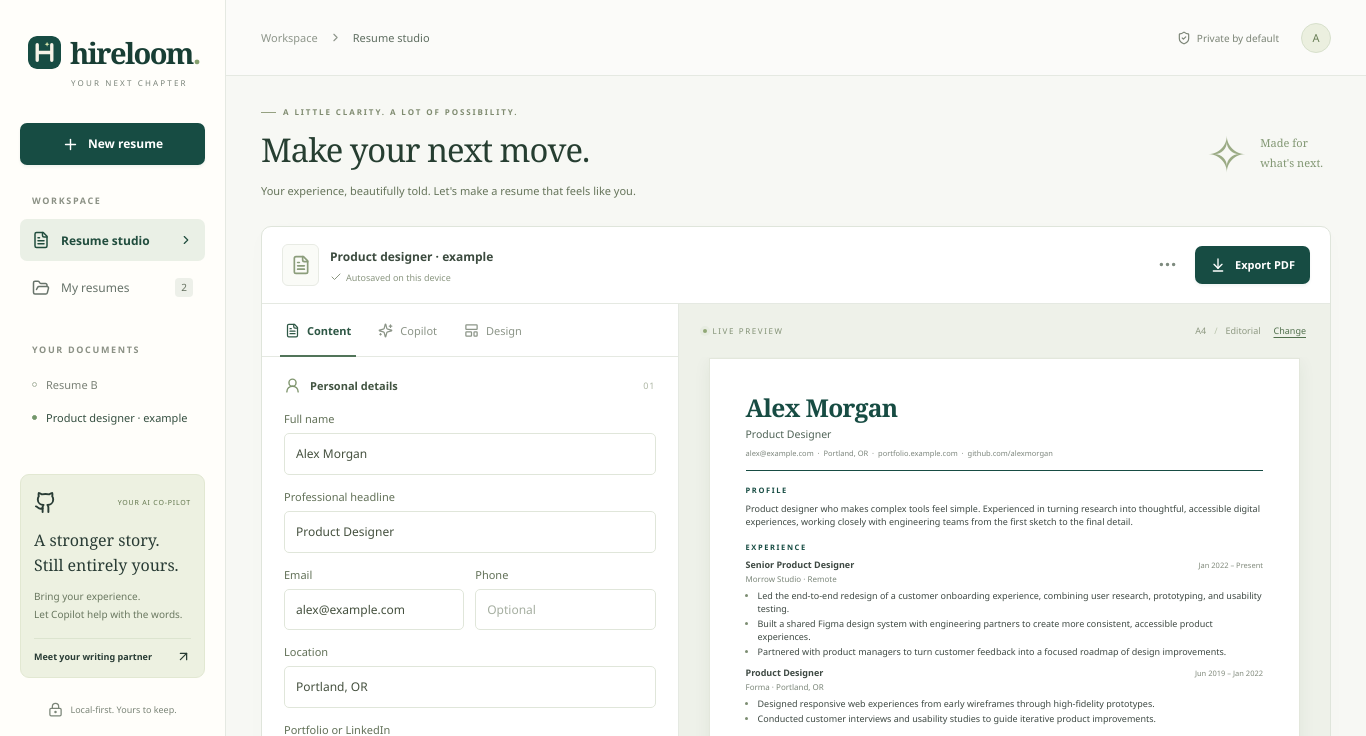
resume studio › keeps a completed APR result visible and stale when switching resumes
This screenshot has width=1366, height=736.
Click the tab "Copilot" at (408, 330), box [373,304,442,356]
(page scrolled)
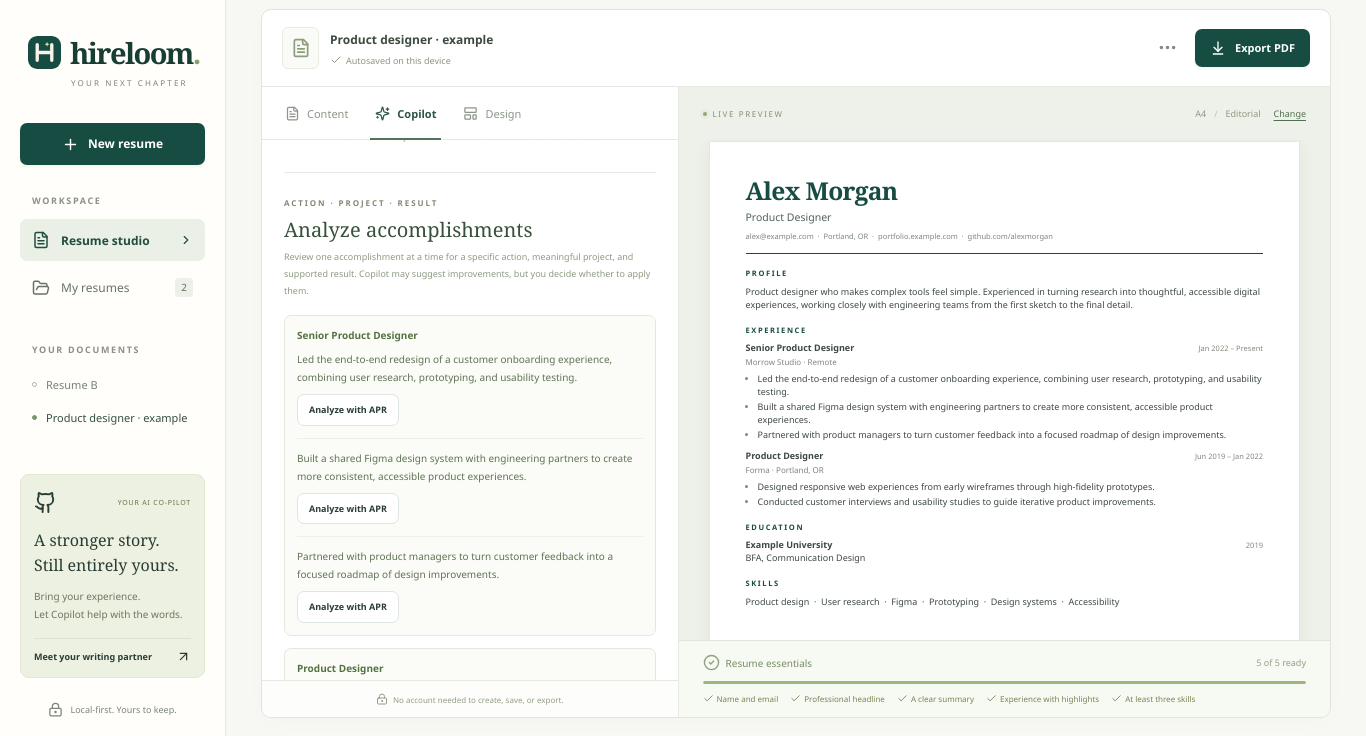
Click the 1st button "Analyze with APR" at (348, 410), box [297,394,399,426]
(page scrolled)
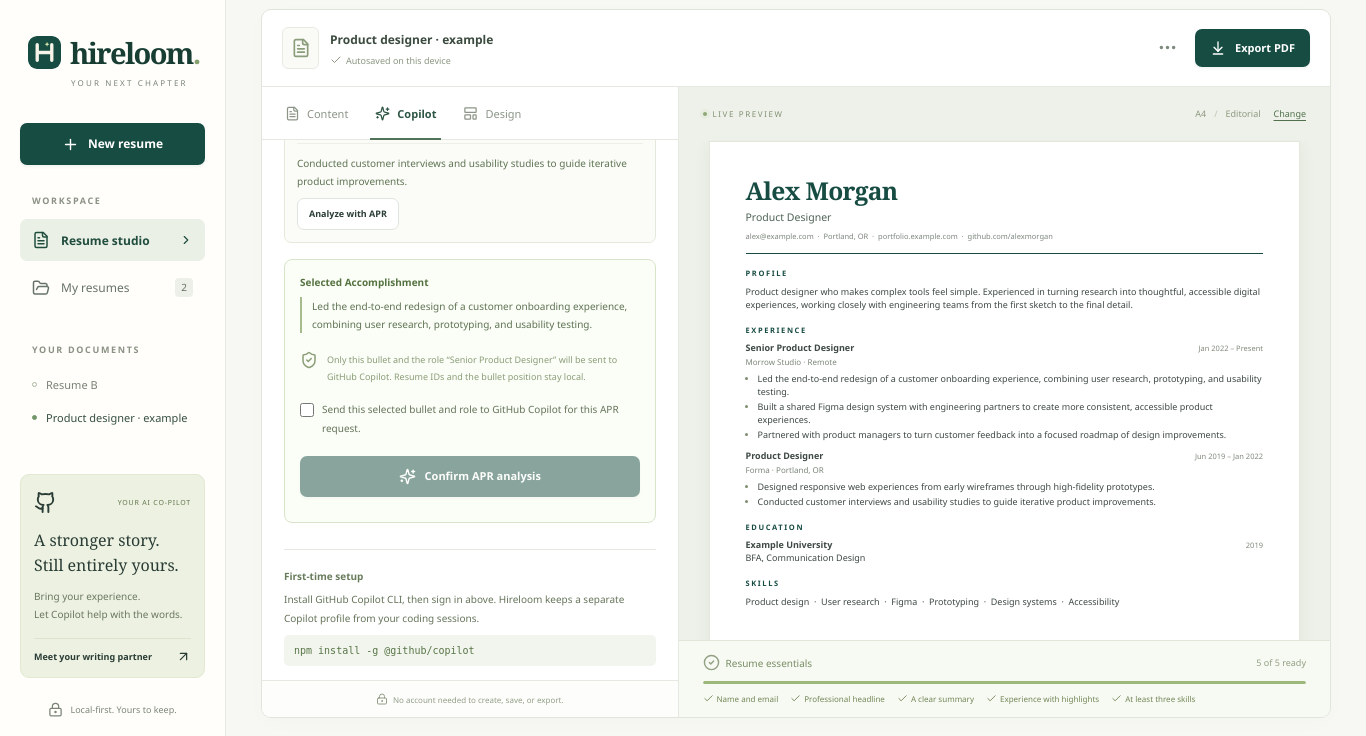
Click the checkbox labelled "Send this selected bullet and role" at (307, 410), box [300,403,314,417]
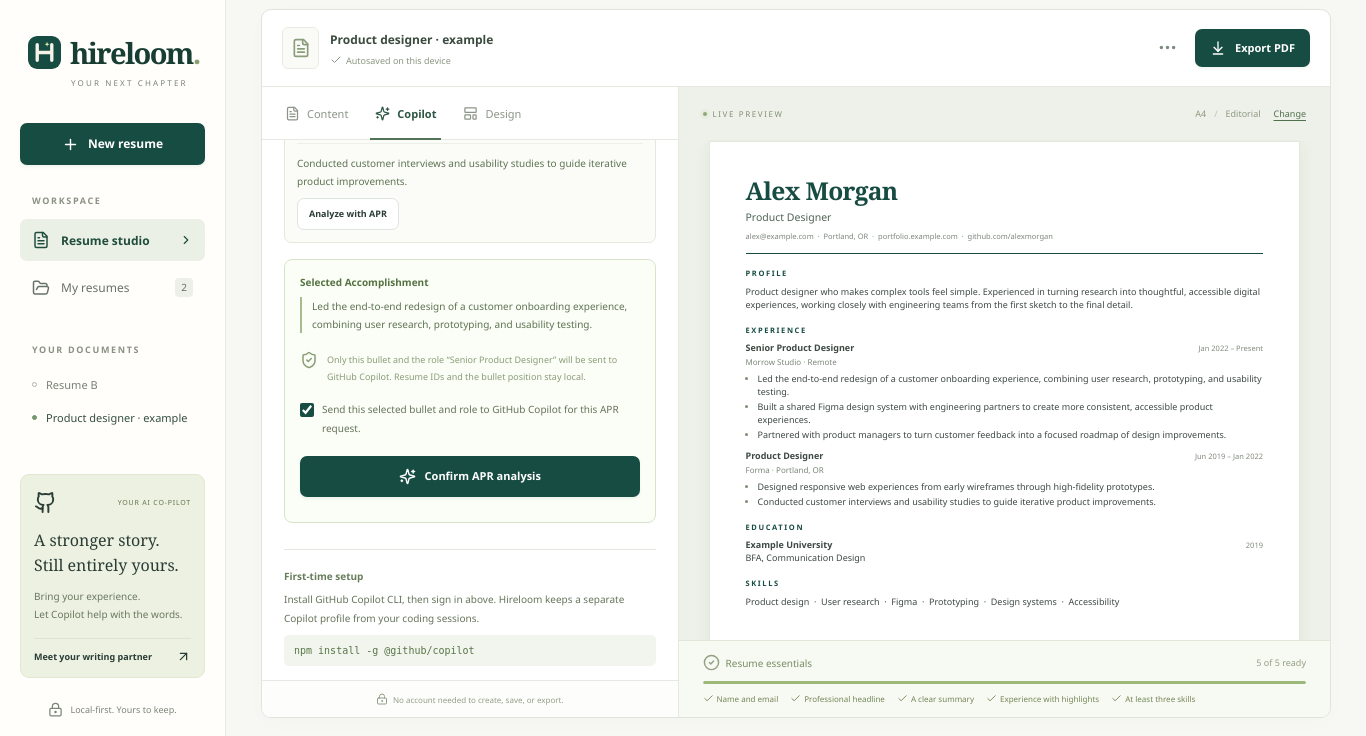
Click the button "Confirm APR analysis" at (470, 476), box [300,456,640,497]
(page scrolled)
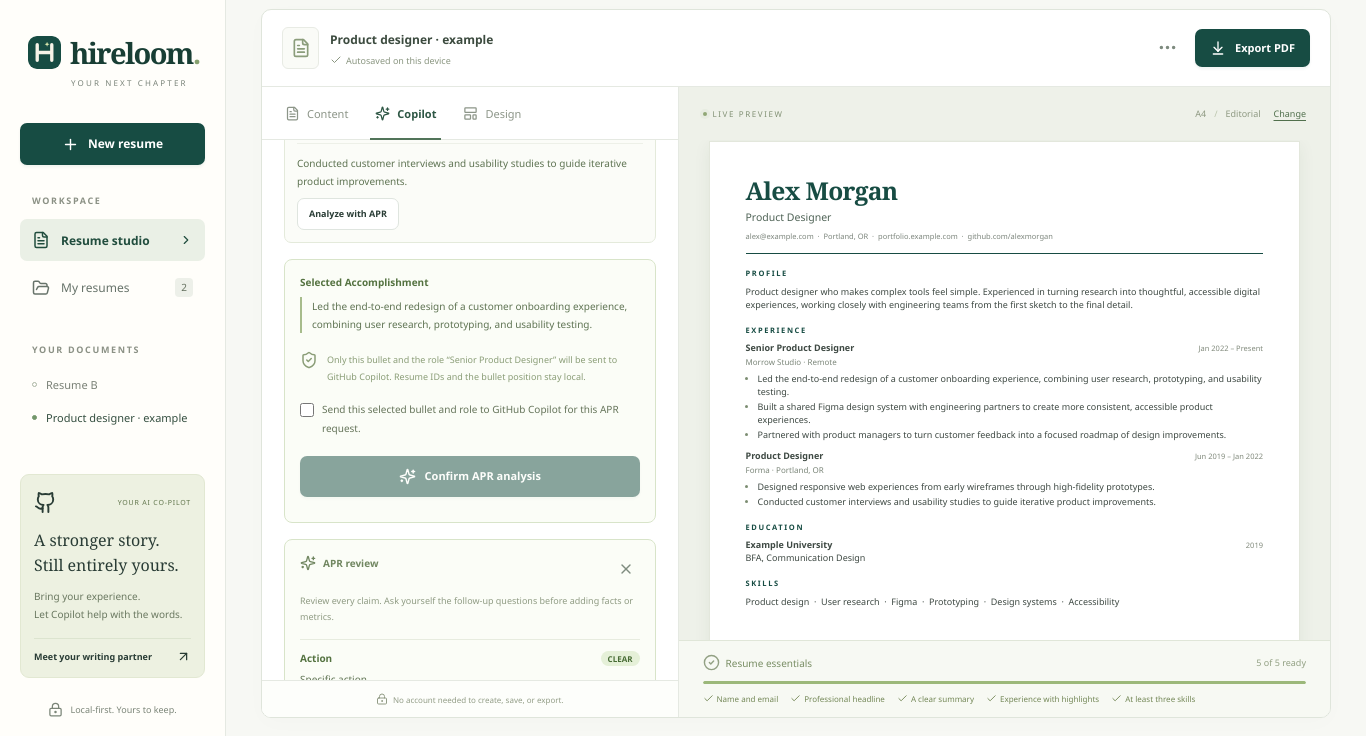
Click the button "Resume B" at (112, 384), box [20,368,205,401]
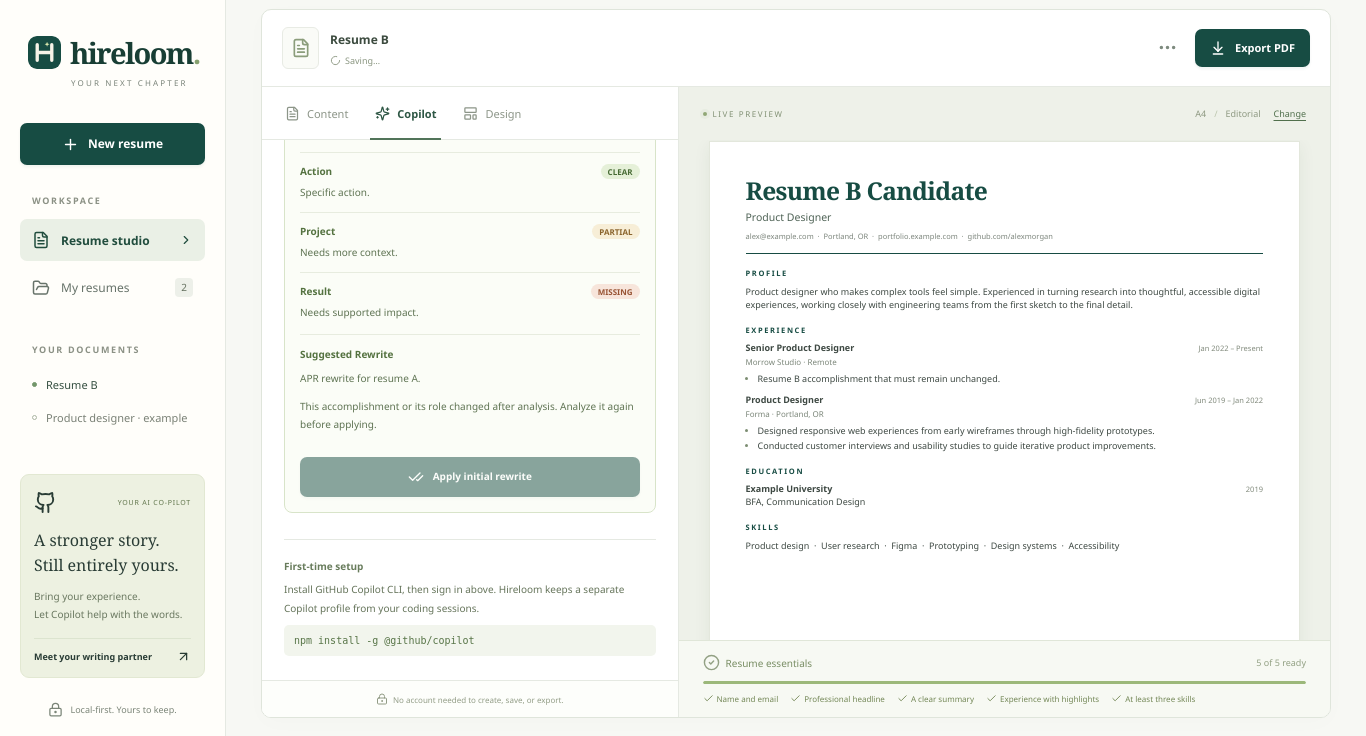
Now the element named "APR analysis" is shown, box [284,140,656,513]
Now the text "APR rewrite for resume A." is shown, box [300,371,420,385]
Now the text "changed after analysis" is shown, box [300,399,634,431]
Click the button "Product designer · example" at (112, 418), box [20,401,205,434]
(page scrolled)
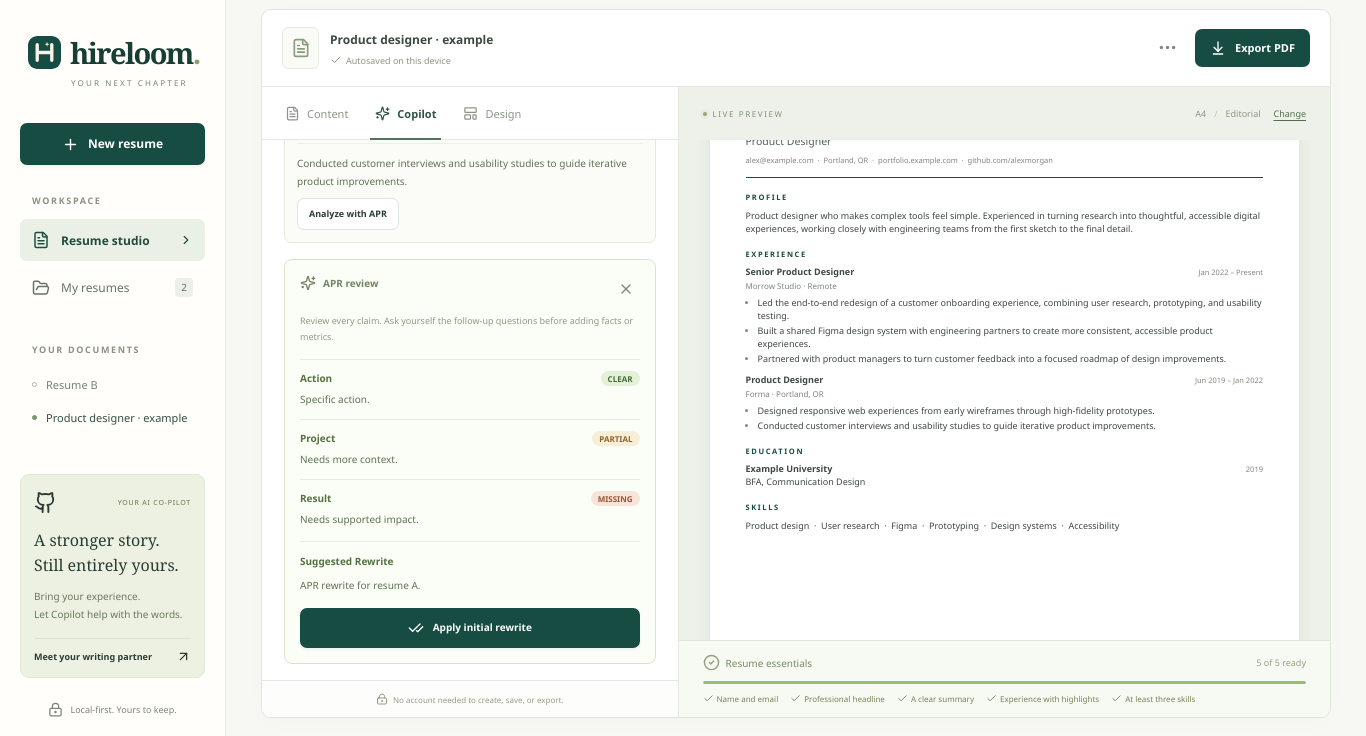
Expected: the element with test id "resume-preview" does not show "APR rewrite for resume A.", [708,140,1300,640]
Now the element with test id "resume-preview" shows "Led the end-to-end redesign of a customer onboarding experience, combining user research, prototyping, and usability testing.", box [758,296,1264,322]
